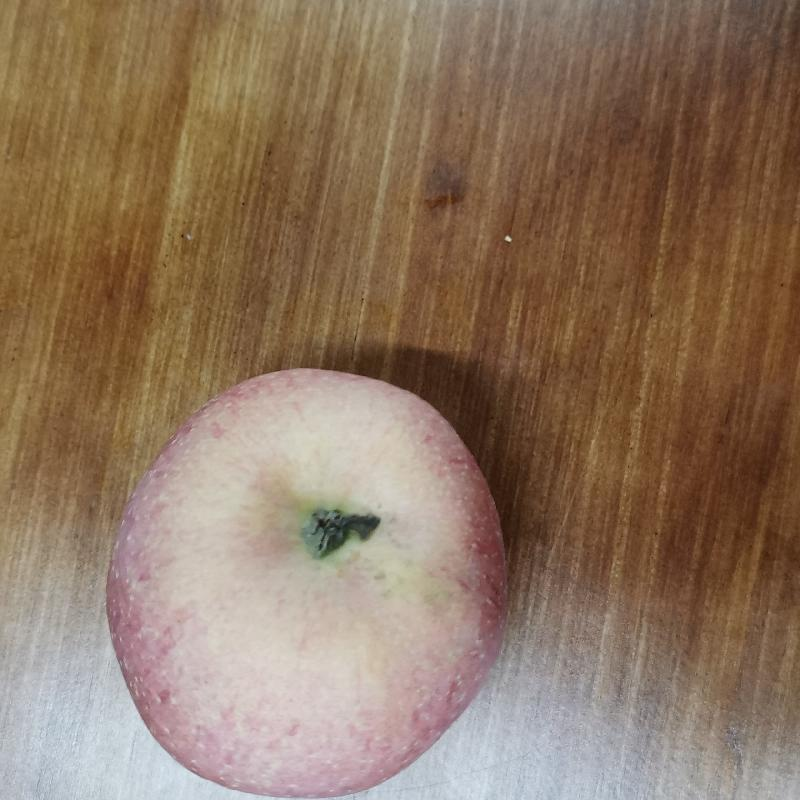apples: (104, 359, 514, 800)
